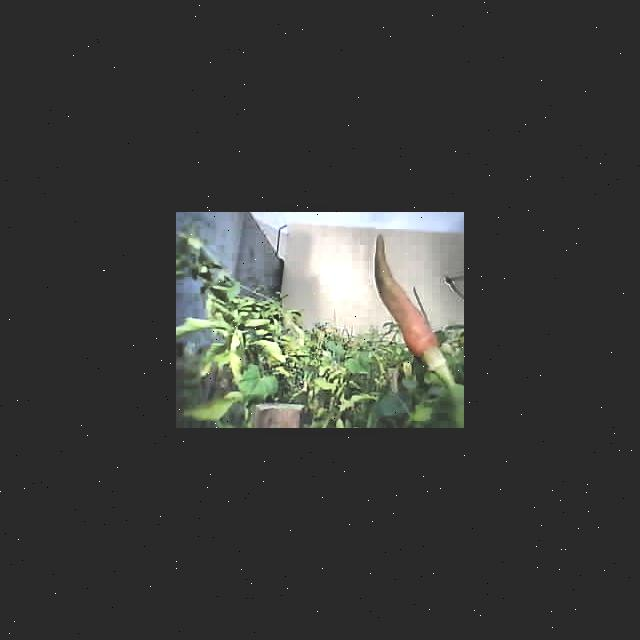Cabai: (371, 232, 450, 373)
